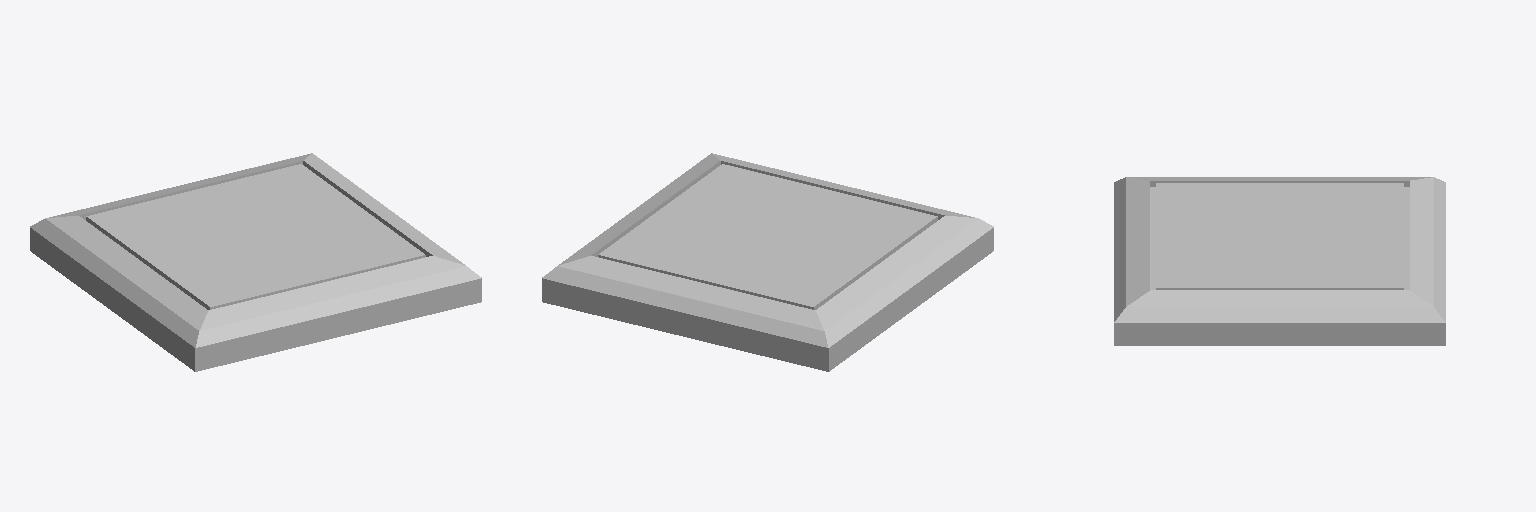
The model's file is Button.obj.
3 renders of one model, left to right at view 1: azimuth 30°, elevation 25°; view 2: azimuth 150°, elevation 25°; view 3: azimuth 270°, elevation 25°, orthographic.
Visible parts, largest first — view 1: Cube; view 2: Cube; view 3: Cube.
Boxes of the visible parts, <box> form: Cube: <box>30,153,481,371</box>; Cube: <box>542,153,993,371</box>; Cube: <box>1114,177,1445,345</box>.
Size of the model in its own units: 2 by 0.2721 by 2.